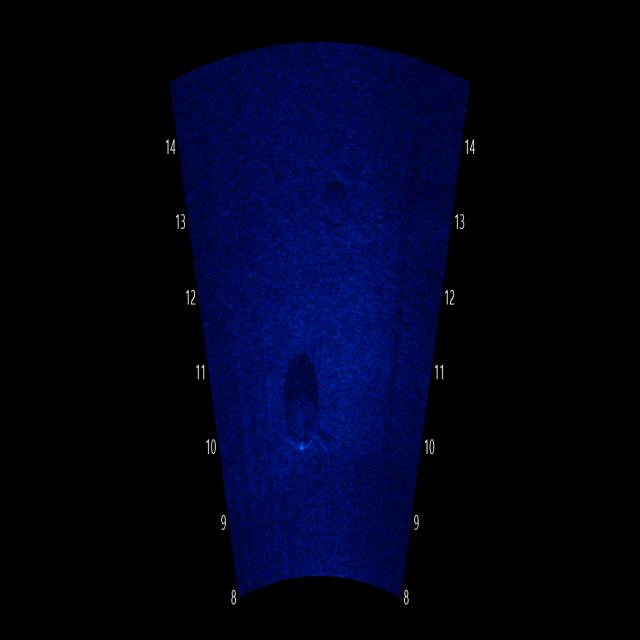circle: (261, 323, 340, 481)
